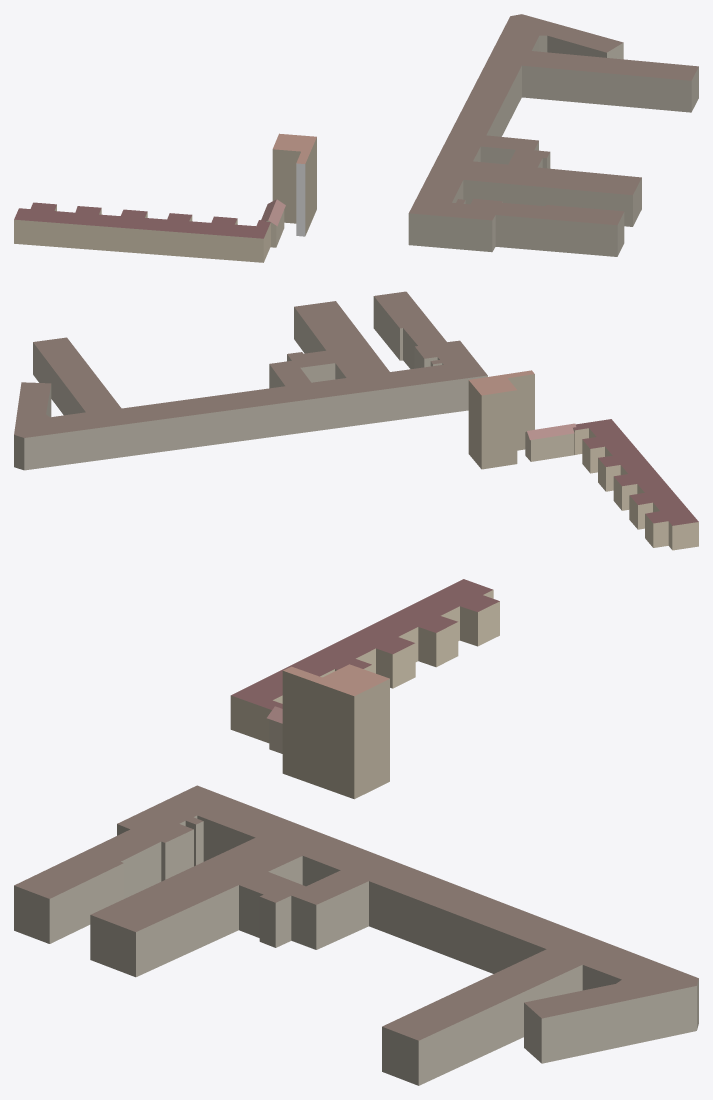
3 views of the same model, one above another, from view 1: azimuth 30°, elevation 25°; view 2: azimuth 150°, elevation 25°; view 3: azimuth 270°, elevation 25° (orthographic). The views are drawn at different scales.
Visible parts, largest first — view 1: tuile; view 2: tuile; view 3: tuile.
Part boxes in pixels (box(x1,y1,x2,y2)): tuile: box(14, 14, 698, 262); tuile: box(14, 291, 698, 550); tuile: box(14, 579, 698, 1085).
Bounding box in the file's own units: 203 × 22.21 × 126.
